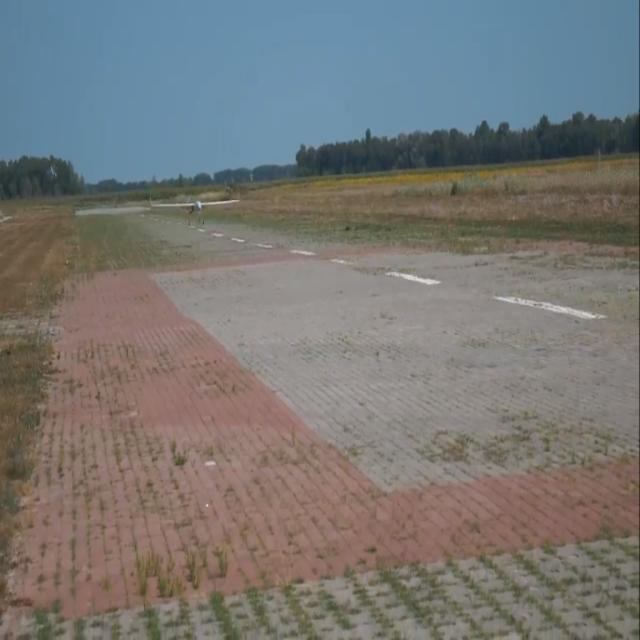drones: (144, 170, 242, 237)
